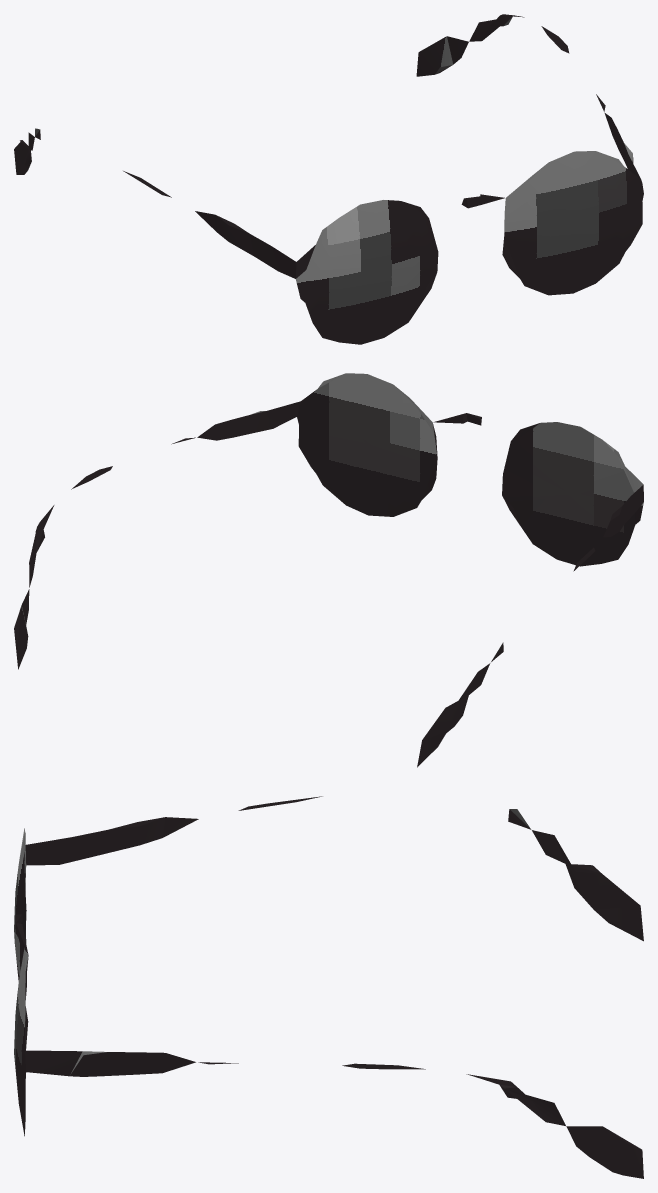
The model's file is round_spectacles.glb.
3 views of the same model, one above another, from view 1: azimuth 30°, elevation 25°; view 2: azimuth 150°, elevation 25°; view 3: azimuth 270°, elevation 25° (orthographic). The views are drawn at different scales.
Parts seen in each view (by area): view 1: mesh; view 2: mesh; view 3: mesh.
Boxes of the visible parts, bbox=[...] form: mesh: bbox=[14, 14, 643, 344]; mesh: bbox=[14, 373, 643, 767]; mesh: bbox=[14, 796, 643, 1178].
Size of the model in its own units: 0.1611 by 0.0463 by 0.153.
Materials: 1 (1 with a texture image).
